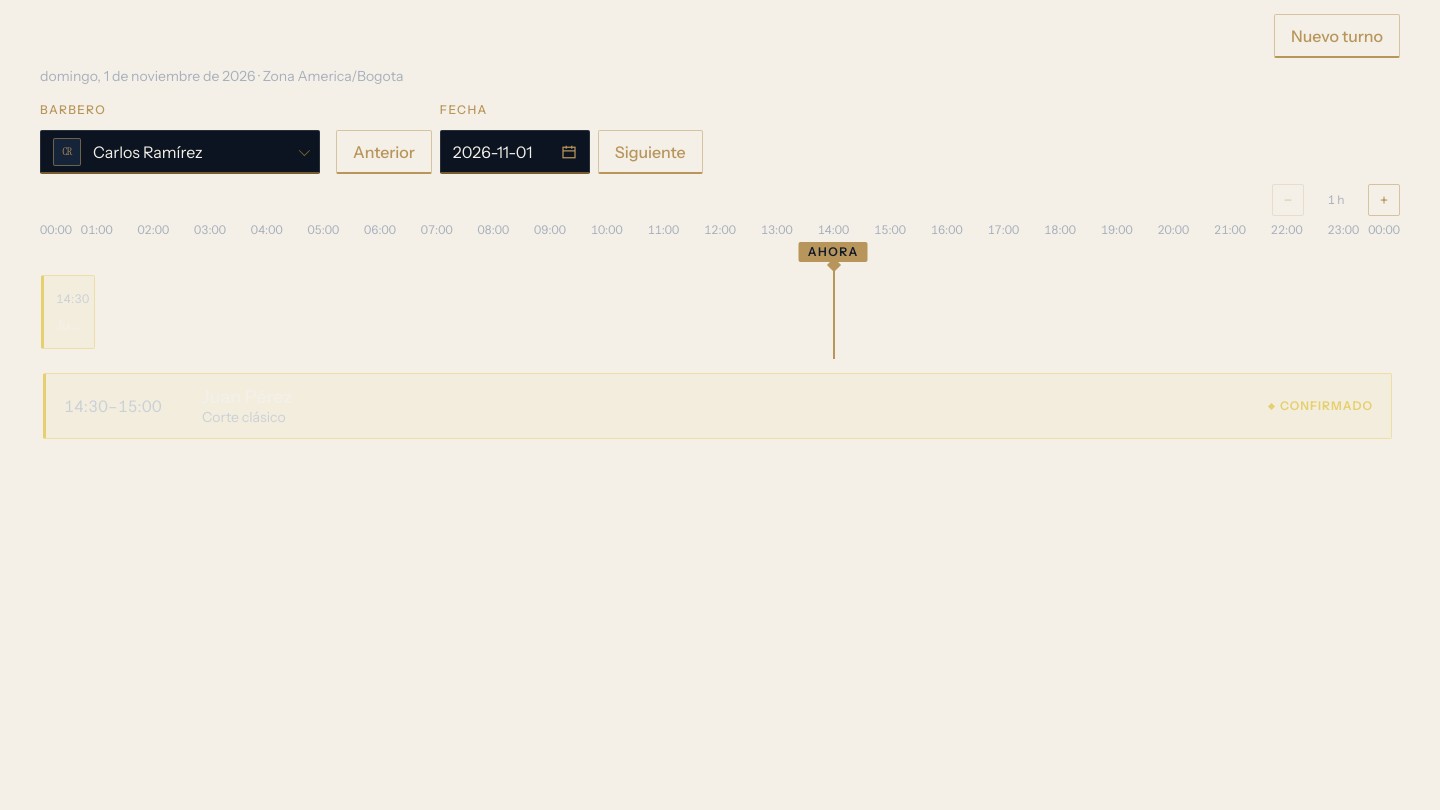
Test: DailyAgendaPage › navegación por fecha (HU-063) › discards an out-of-order response from a previous date after navigating again (CA-063)
Click the button "Anterior".
click(384, 152)  # box [336,130,432,174]
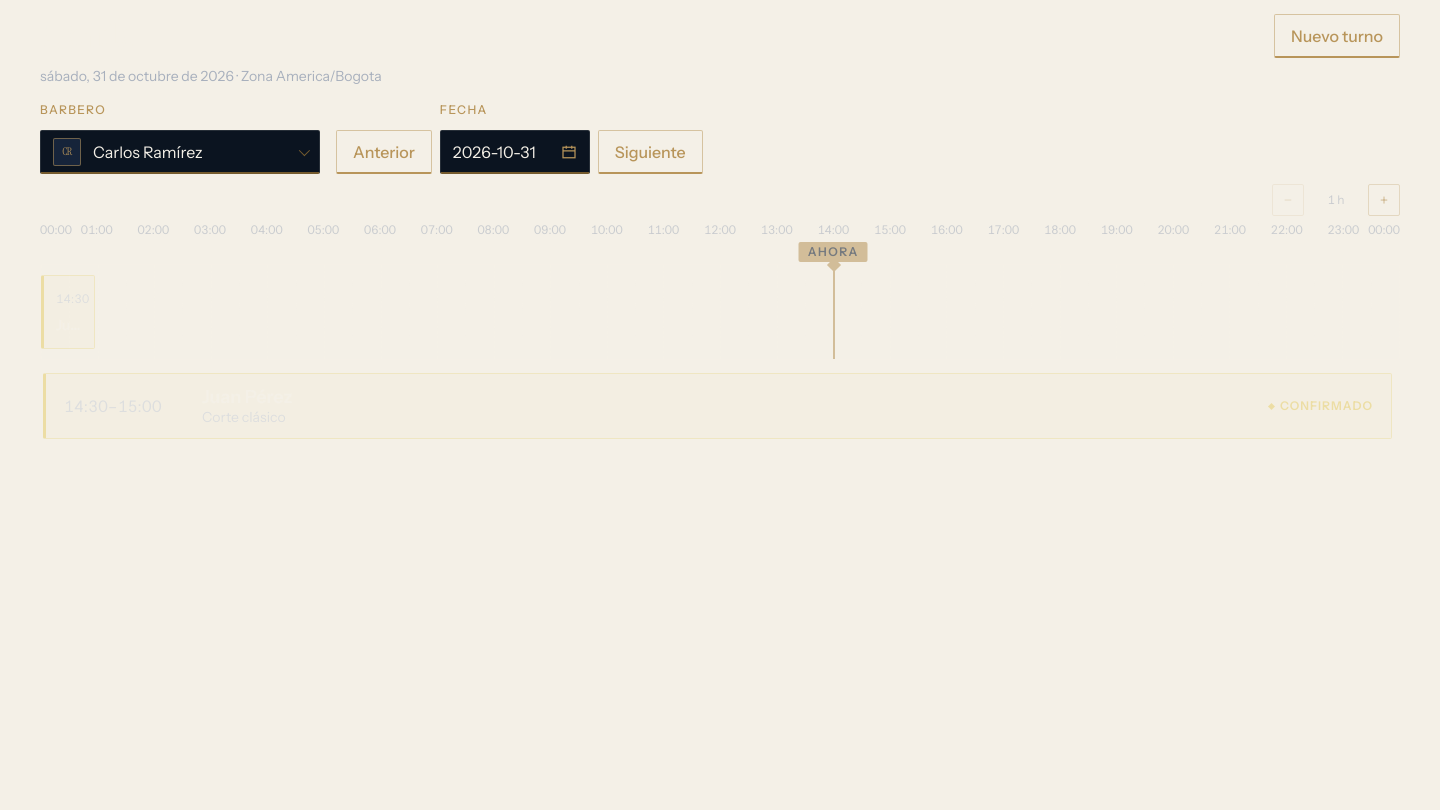
Click the button "Anterior".
click(384, 152)  # box [336,130,432,174]
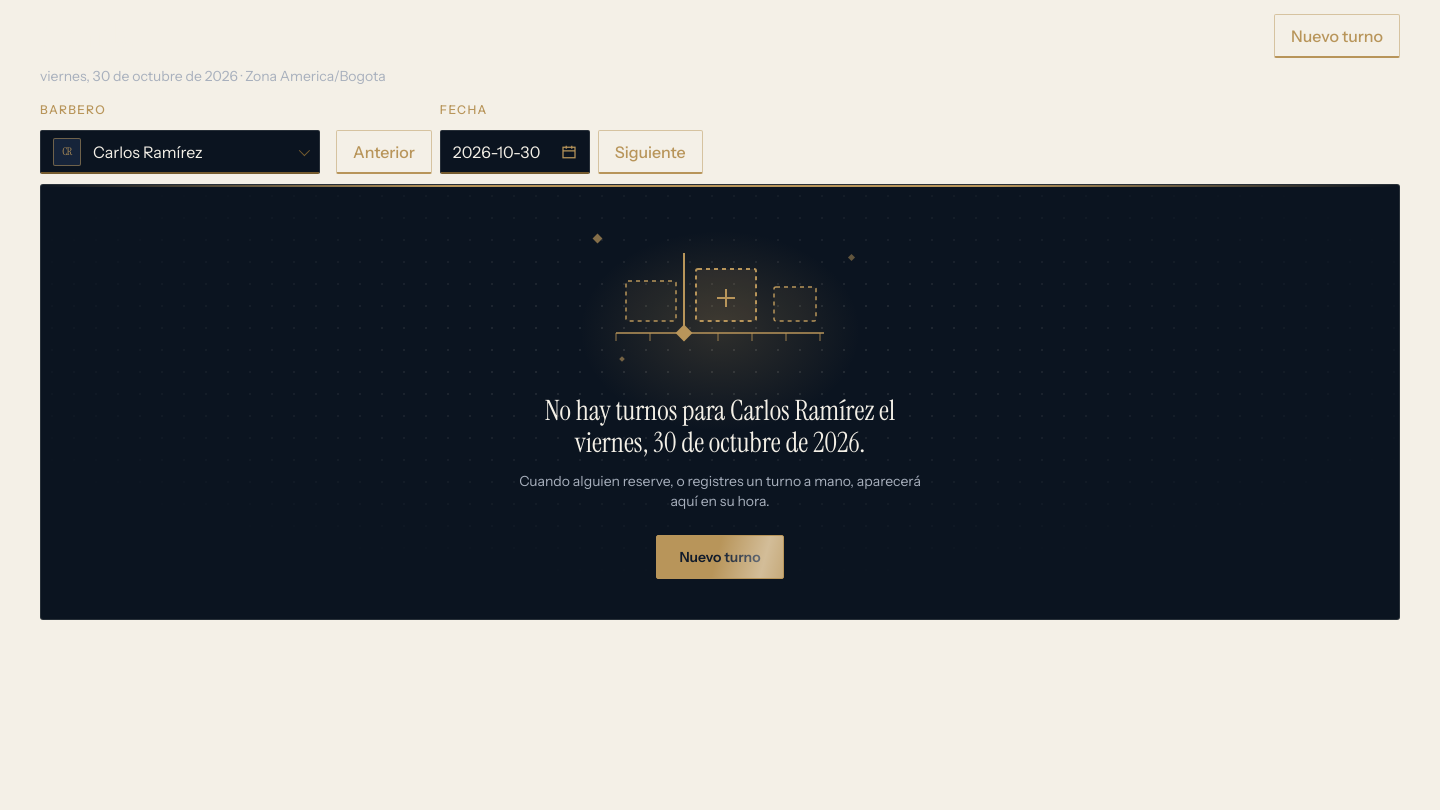
expect the text "No hay turnos para Carlos Ramírez el" is shown: met, box [545,392,895,461]
